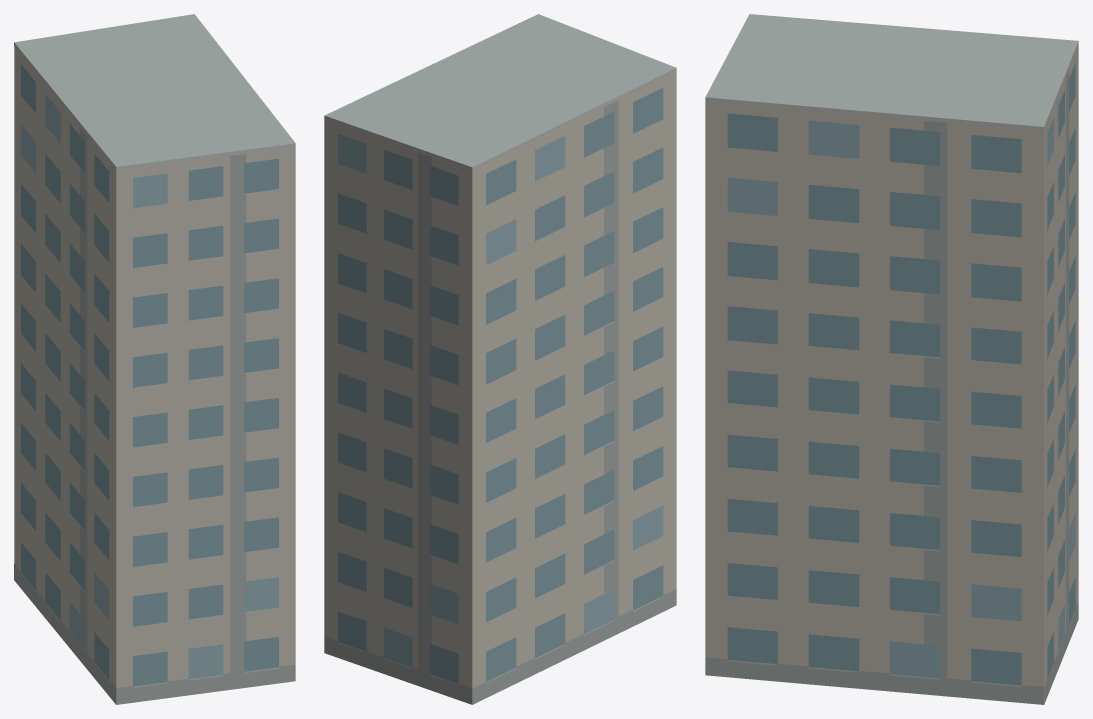
File: residential-de4b215e-166d-4ba2-afaf-86fa1f38408e.glb
3 views of the same model, side by side, from view 1: azimuth 30°, elevation 25°; view 2: azimuth 150°, elevation 25°; view 3: azimuth 270°, elevation 25° (orthographic). The views are drawn at different scales.
Parts seen in each view (by area): view 1: residential-de4b215e-166d-4ba2-afaf-86fa1f38408e.tmp; view 2: residential-de4b215e-166d-4ba2-afaf-86fa1f38408e.tmp; view 3: residential-de4b215e-166d-4ba2-afaf-86fa1f38408e.tmp.
Boxes of the visible parts, x1,y1,x2,y2 form: residential-de4b215e-166d-4ba2-afaf-86fa1f38408e.tmp: [14, 14, 295, 704]; residential-de4b215e-166d-4ba2-afaf-86fa1f38408e.tmp: [324, 14, 676, 704]; residential-de4b215e-166d-4ba2-afaf-86fa1f38408e.tmp: [705, 14, 1078, 704].
Bounding box in the file's own units: 13.42 × 32 × 18.75.
